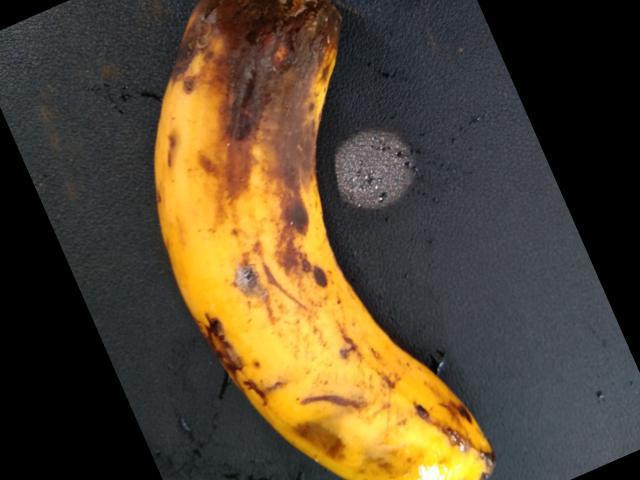rotten: (138, 0, 504, 468)
